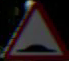Speed Breaker ahead: (6, 5, 59, 54)
